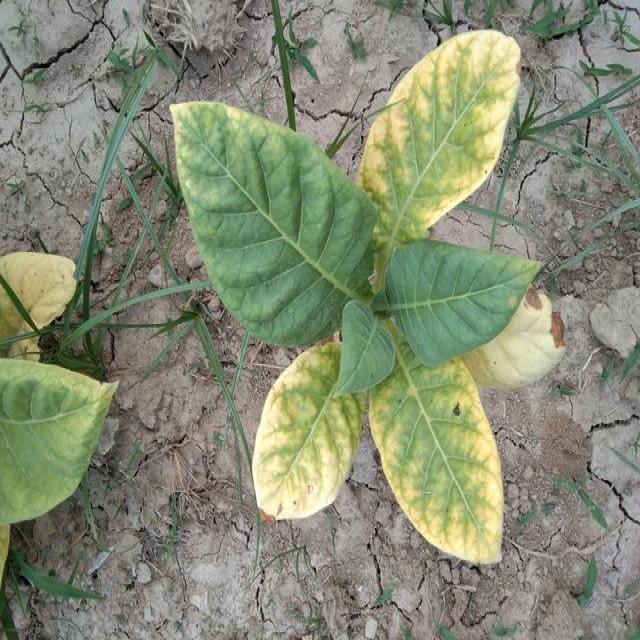crop: (166, 24, 553, 576)
